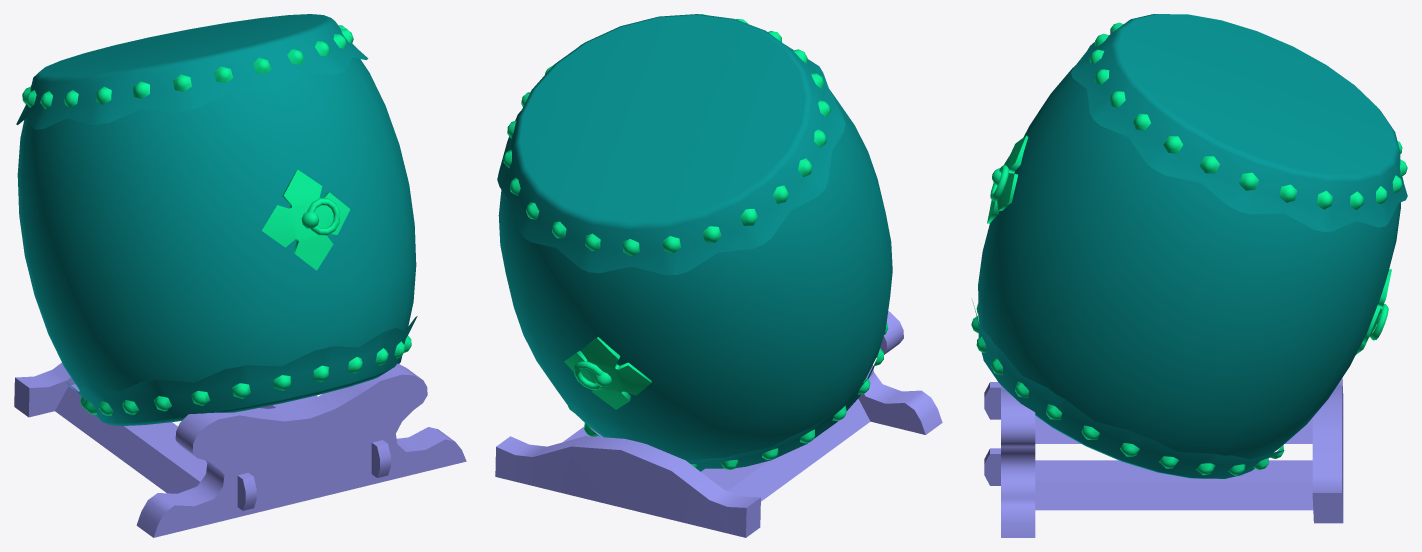
Rendered from SM_ENV_LKNVLD_Lobbydrum.gltf.
3 renders of one model, left to right at view 1: azimuth 30°, elevation 25°; view 2: azimuth 150°, elevation 25°; view 3: azimuth 270°, elevation 25°, orthographic. The views are drawn at different scales.
Parts seen in each view (by area): view 1: SM_ENV_LKNVLD_Lobbydrum; view 2: SM_ENV_LKNVLD_Lobbydrum; view 3: SM_ENV_LKNVLD_Lobbydrum.
Part boxes in pixels (x1,y1,x2,y2): SM_ENV_LKNVLD_Lobbydrum: (14, 14, 466, 537); SM_ENV_LKNVLD_Lobbydrum: (495, 14, 942, 537); SM_ENV_LKNVLD_Lobbydrum: (971, 14, 1407, 537).
Size of the model in its own units: 1.26 by 1.47 by 1.39.
